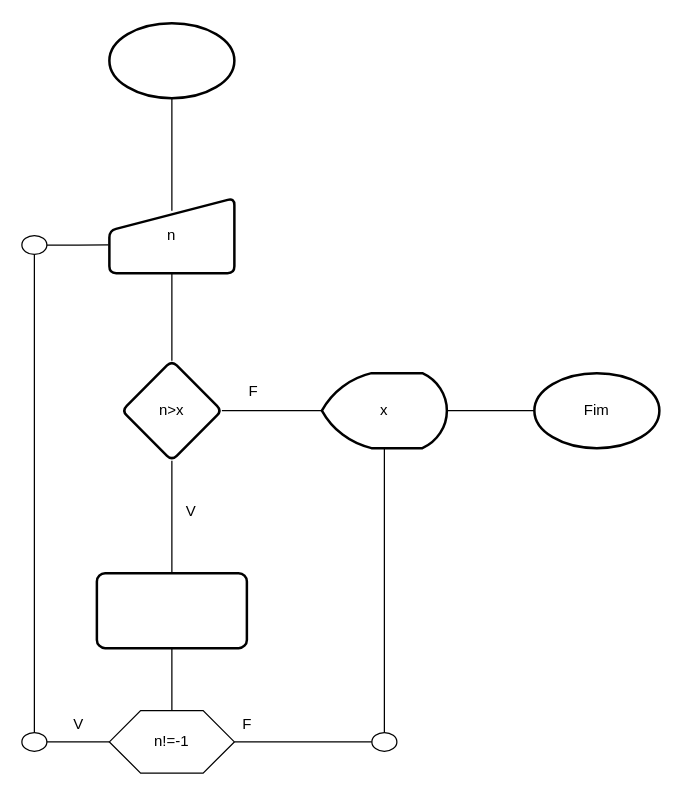
Some shapes in this 683 by 795 pixel diagram are drawn without their labels. Each missing label, with the centre of its shape:
Inicio: the point at 171,60
x=n: the point at 171,610
